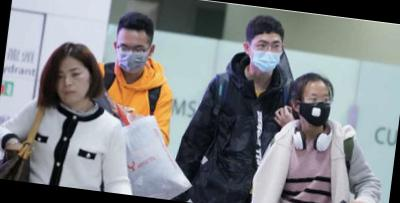with_mask: (248, 34, 285, 77), (113, 38, 151, 76), (298, 88, 334, 128)
without_mask: (51, 61, 95, 109)
